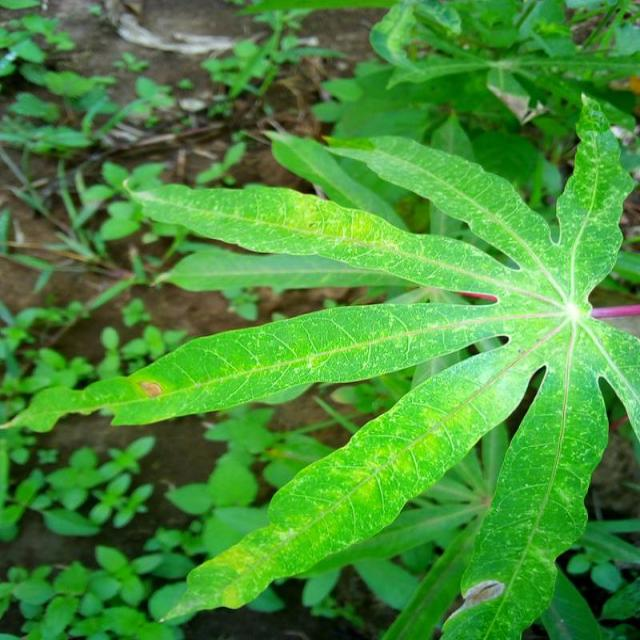cassava leaf: (4, 88, 638, 637)
